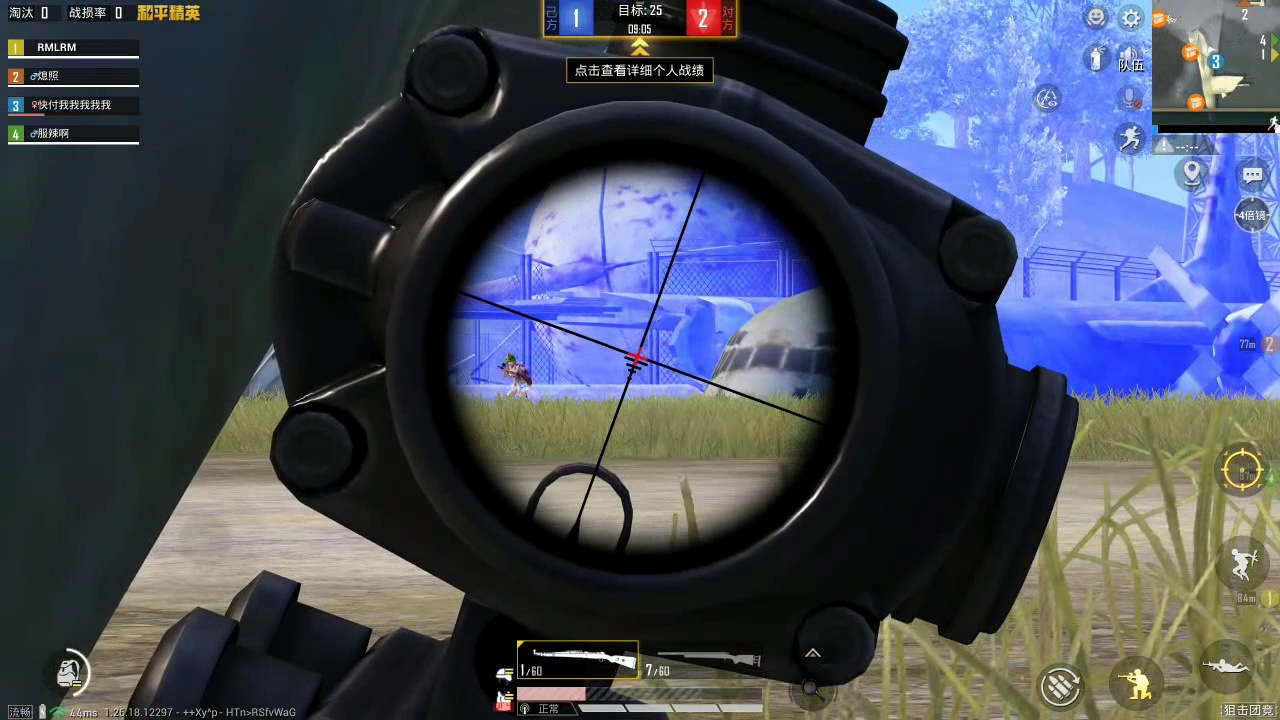enemy: (499, 353, 534, 399)
